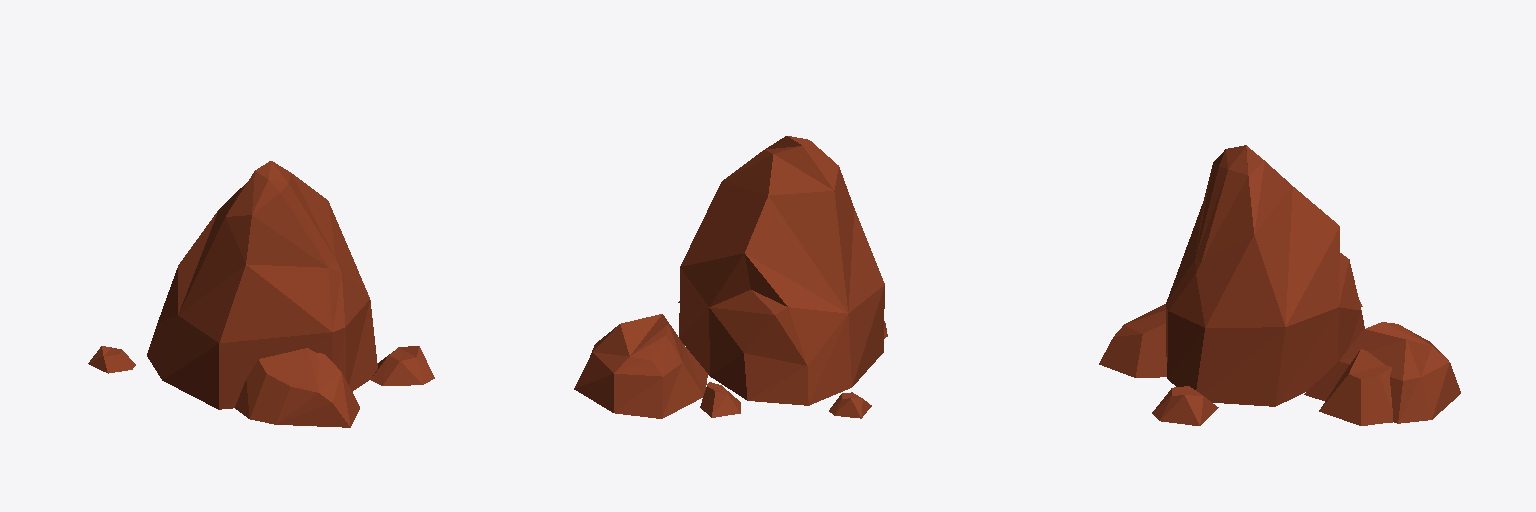
Rendered from Roca2.obj.
3 renders of one model, left to right at view 1: azimuth 30°, elevation 25°; view 2: azimuth 150°, elevation 25°; view 3: azimuth 270°, elevation 25°, orthographic.
Parts seen in each view (by area): view 1: Rocks02_Mesh.003; view 2: Rocks02_Mesh.003; view 3: Rocks02_Mesh.003.
Boxes of the visible parts, x1,y1,x2,y2 form: Rocks02_Mesh.003: [88, 161, 434, 427]; Rocks02_Mesh.003: [574, 136, 887, 418]; Rocks02_Mesh.003: [1099, 145, 1460, 425].
Size of the model in its own units: 4.43 by 3.5 by 5.31.